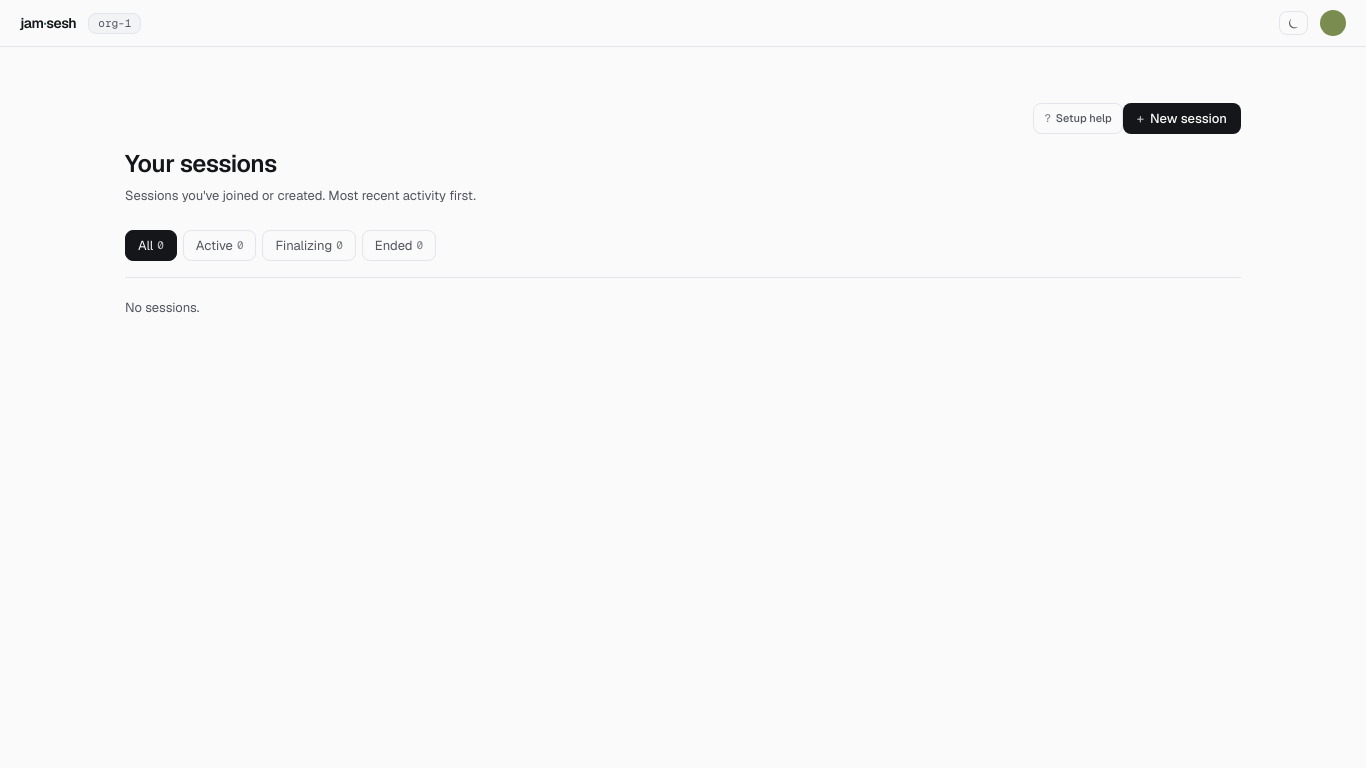
Test case: SessionList › closes the drawer when Cancel is clicked
The width and height of the screenshot is (1366, 768).
Click the button "+ New session".
click(1182, 118)  # box [1123,103,1241,134]
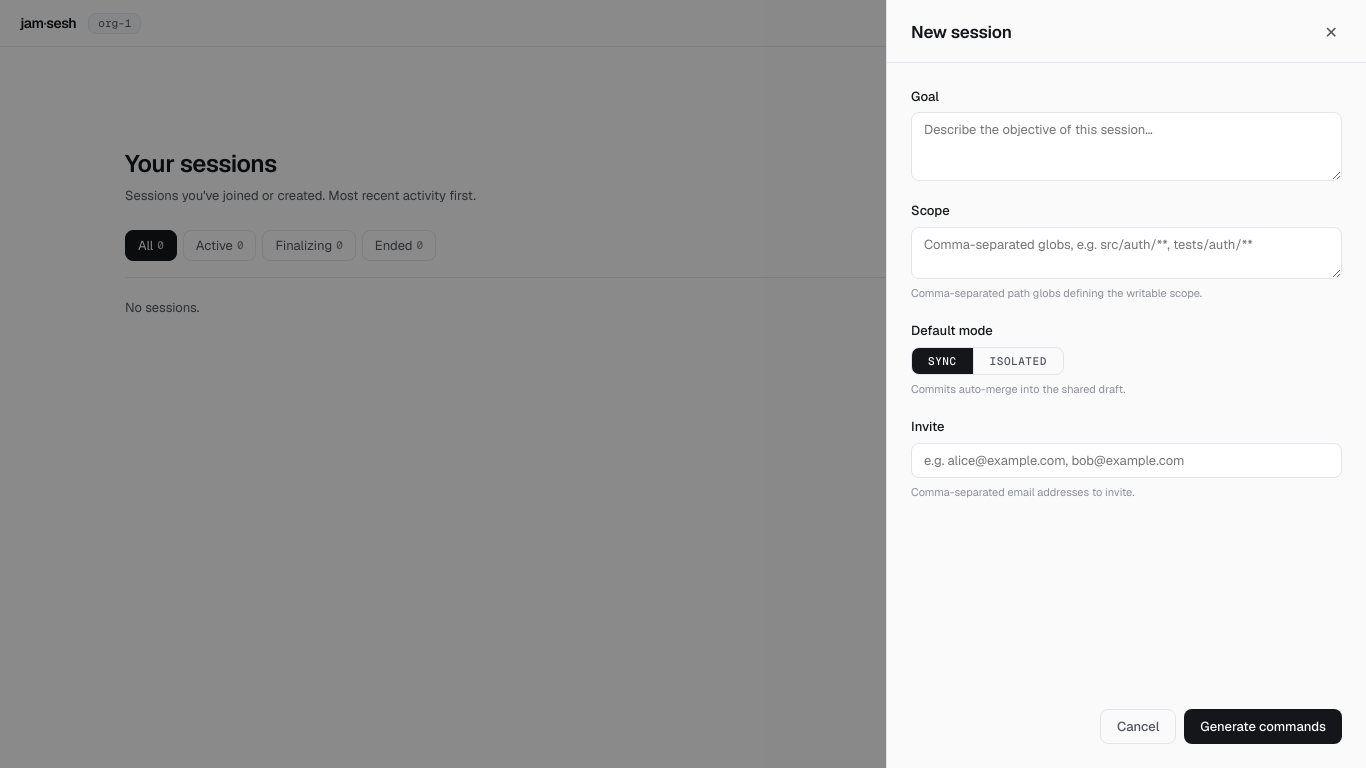
Now the button "Generate commands" is shown, box [1184,709,1342,744]
Click the button "Cancel".
click(1138, 726)  # box [1100,709,1176,744]
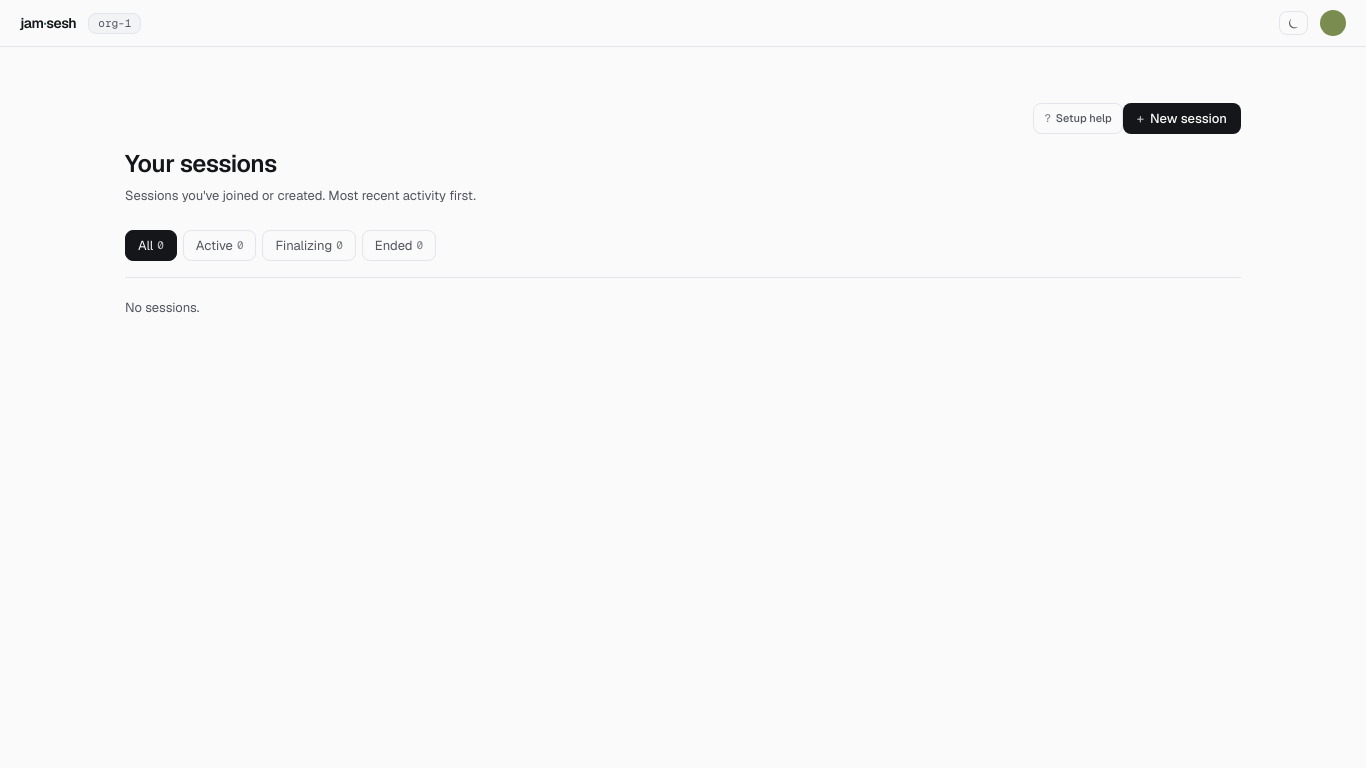
Now the button "Generate commands" is gone
